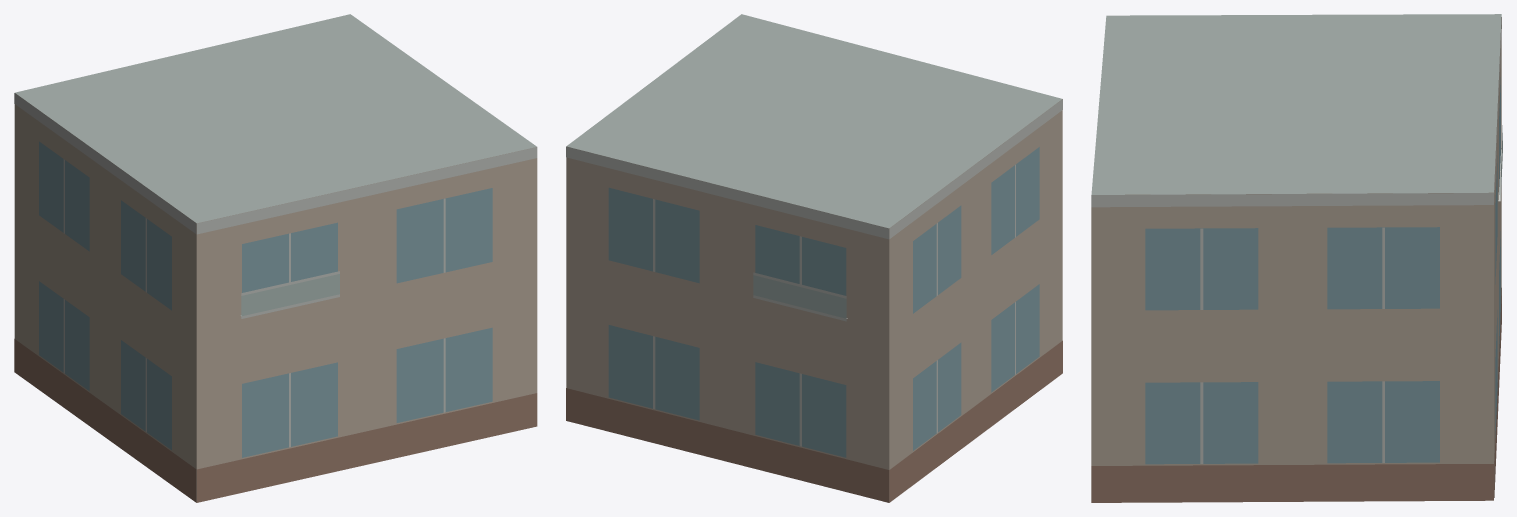
The model's file is survey-upis-32509856.glb.
3 views of the same model, side by side, from view 1: azimuth 30°, elevation 25°; view 2: azimuth 150°, elevation 25°; view 3: azimuth 270°, elevation 25° (orthographic). The views are drawn at different scales.
Visible parts, largest first — view 1: survey-upis-32509856.tmp; view 2: survey-upis-32509856.tmp; view 3: survey-upis-32509856.tmp.
Part boxes in pixels (<box>): survey-upis-32509856.tmp: <box>14,14,537,502</box>; survey-upis-32509856.tmp: <box>566,14,1062,502</box>; survey-upis-32509856.tmp: <box>1091,14,1502,502</box>.
Bounding box in the file's own units: 7.7 × 6.1 × 7.39.
